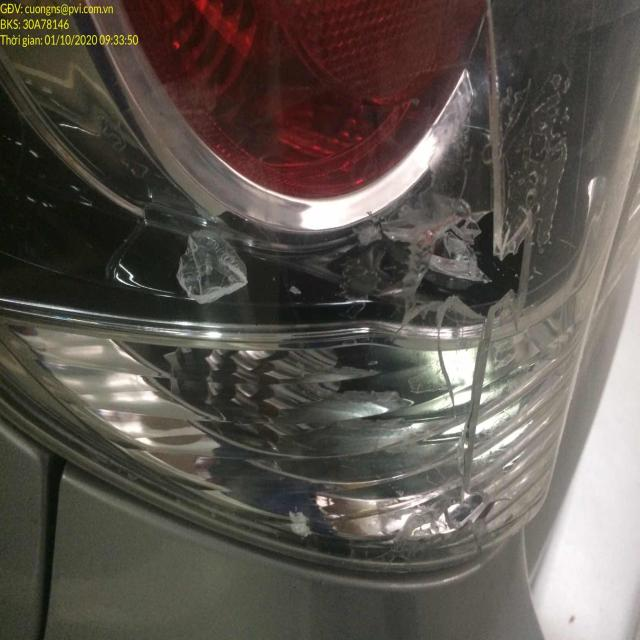Phare abime: (387, 48, 552, 517), (173, 209, 249, 302)
